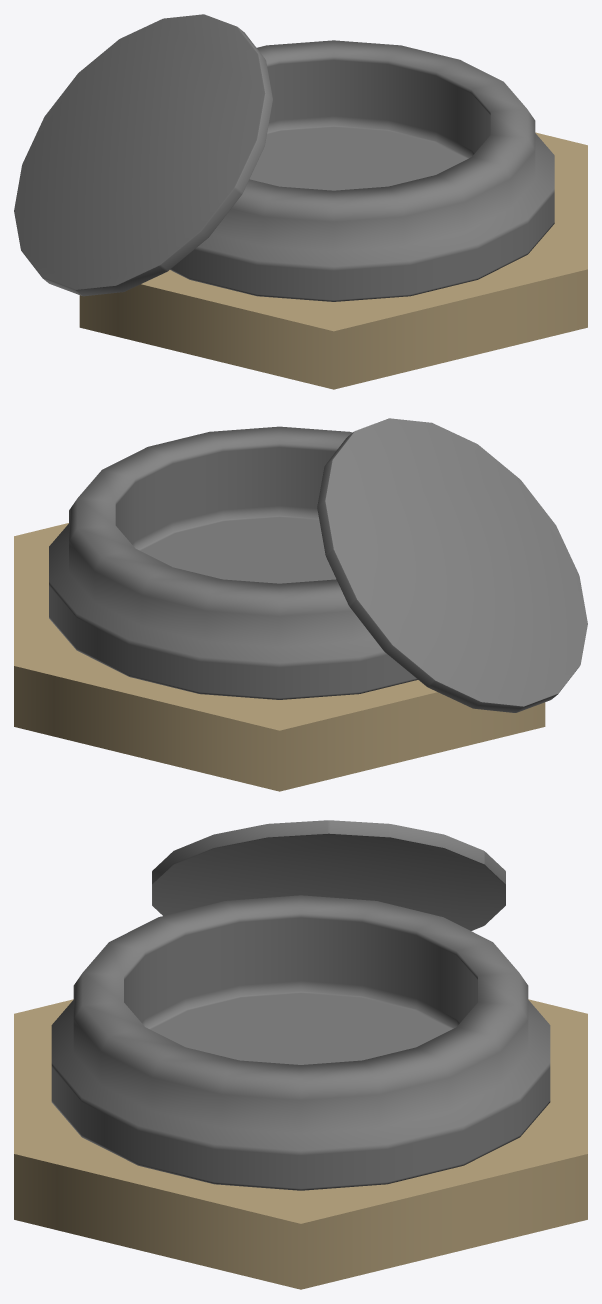
File: HexTunnel.fbx
3 renders of one model, top to bottom at view 1: azimuth 30°, elevation 25°; view 2: azimuth 150°, elevation 25°; view 3: azimuth 270°, elevation 25°, orthographic. The views are drawn at different scales.
Parts seen in each view (by area): view 1: TunnelTop, Hex; view 2: TunnelTop, Hex; view 3: TunnelTop, Hex.
Boxes of the visible parts, bbox=[...] form: TunnelTop: bbox=[14, 14, 554, 301]; Hex: bbox=[79, 132, 587, 389]; TunnelTop: bbox=[49, 418, 587, 712]; Hex: bbox=[14, 523, 545, 791]; TunnelTop: bbox=[51, 820, 550, 1190]; Hex: bbox=[14, 999, 587, 1289].
Size of the model in its own units: 4.78 by 2.15 by 3.95.
